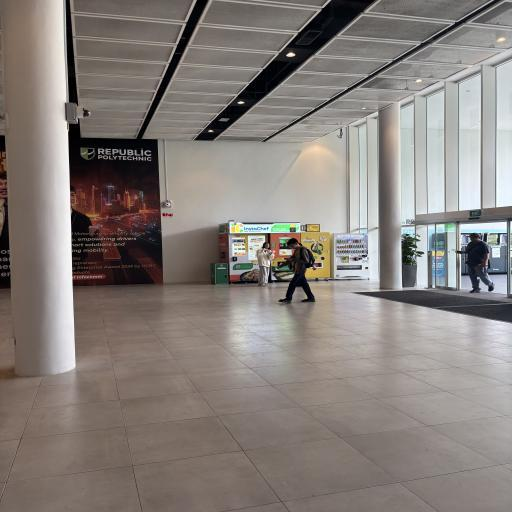person_left: (453, 224, 503, 296), (283, 230, 325, 310)
